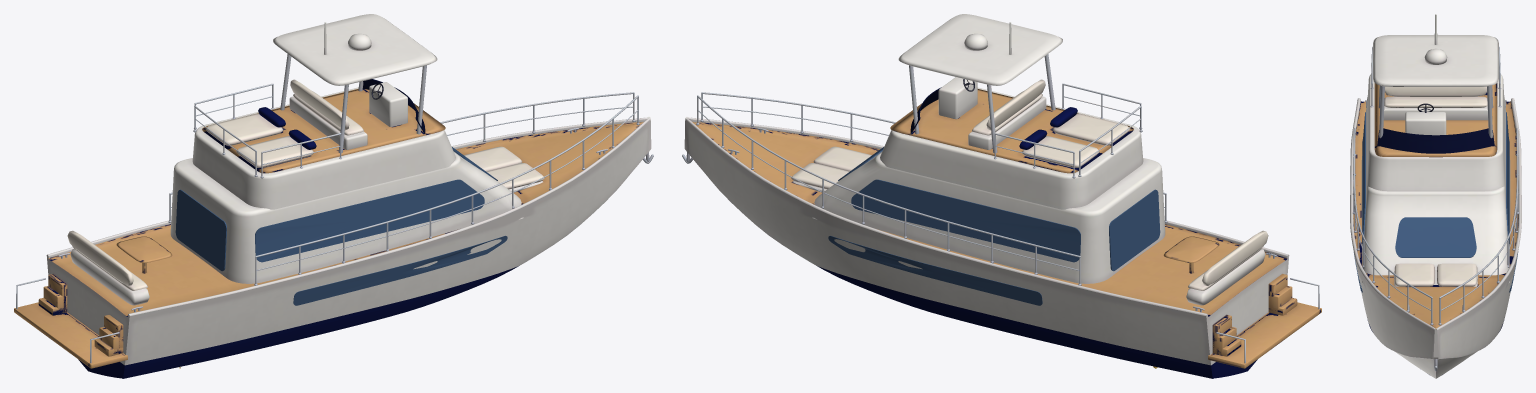
The model's file is lancha-fs-230-scappare-2011.glb.
The picture shows the model from 3 angles, left to right: view 1: azimuth 30°, elevation 25°; view 2: azimuth 150°, elevation 25°; view 3: azimuth 270°, elevation 25°; orthographic projection. The views are drawn at different scales.
Visible parts, largest first — view 1: yacht_body, yacht_salon_windows, yacht_hull_windows; view 2: yacht_body, yacht_salon_windows, yacht_hull_windows; view 3: yacht_body, yacht_salon_windows.
Boxes of the visible parts, x1=… form: yacht_body: x1=14, y1=14, x2=653, y2=378; yacht_salon_windows: x1=175, y1=147, x2=497, y2=271; yacht_hull_windows: x1=293, y1=235, x2=507, y2=305; yacht_body: x1=682, y1=14, x2=1321, y2=378; yacht_salon_windows: x1=838, y1=147, x2=1160, y2=271; yacht_hull_windows: x1=828, y1=235, x2=1042, y2=305; yacht_body: x1=1350, y1=14, x2=1521, y2=378; yacht_salon_windows: x1=1362, y1=112, x2=1509, y2=257.
Bounding box in the file's own units: 7.01 × 3.29 × 1.83.
Materials: 7 (1 with a texture image).
